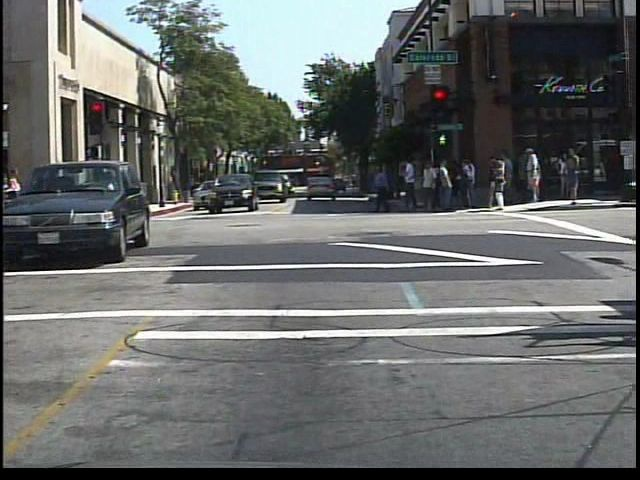person: (521, 147, 546, 206), (35, 173, 58, 232), (3, 176, 25, 231)
